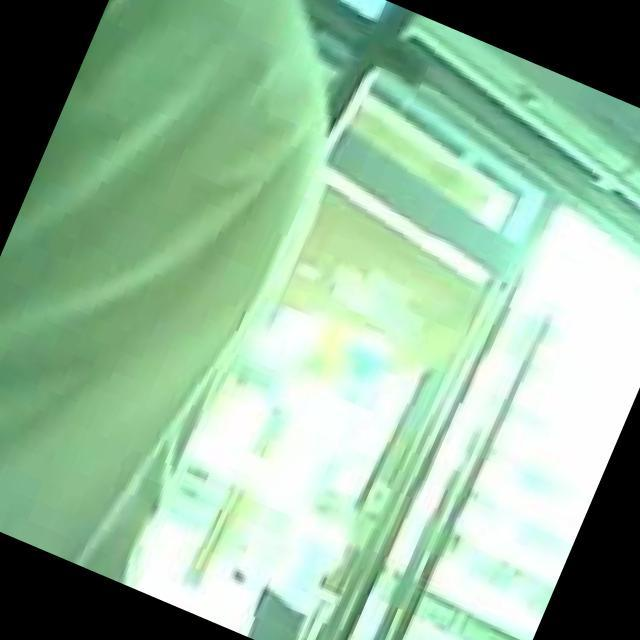person: (0, 0, 408, 598)
